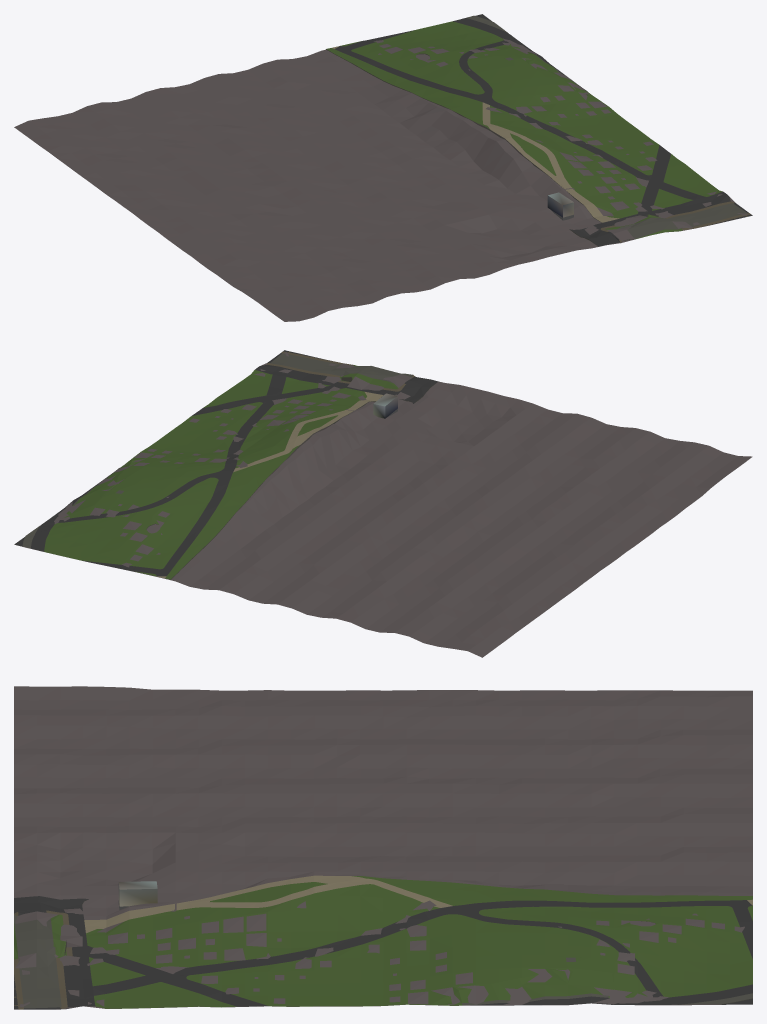
The picture shows the model from 3 angles, top to bottom: view 1: azimuth 30°, elevation 25°; view 2: azimuth 150°, elevation 25°; view 3: azimuth 270°, elevation 25°; orthographic projection. The views are drawn at different scales.
Parts seen in each view (by area): view 1: c_m05_m04; view 2: c_m05_m04; view 3: c_m05_m04.
Part boxes in pixels (x1,y1,x2,y2): c_m05_m04: [14, 14, 752, 321]; c_m05_m04: [14, 350, 752, 657]; c_m05_m04: [14, 686, 752, 1009].
Bounding box in the file's own units: 128 × 8.38 × 128.
